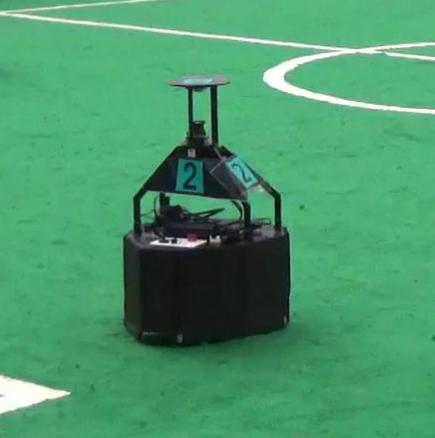robot: (116, 73, 295, 346)
